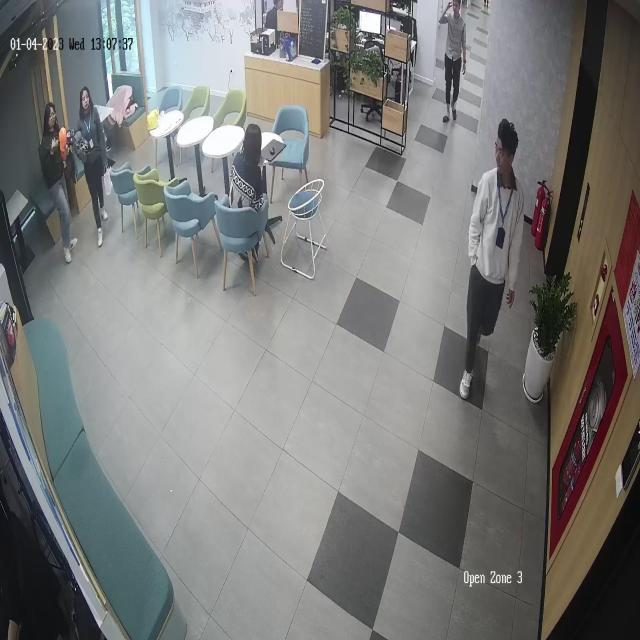person: (459, 118, 525, 400), (228, 122, 285, 260), (39, 102, 78, 265), (73, 85, 109, 247), (438, 0, 468, 124), (228, 120, 267, 210)
